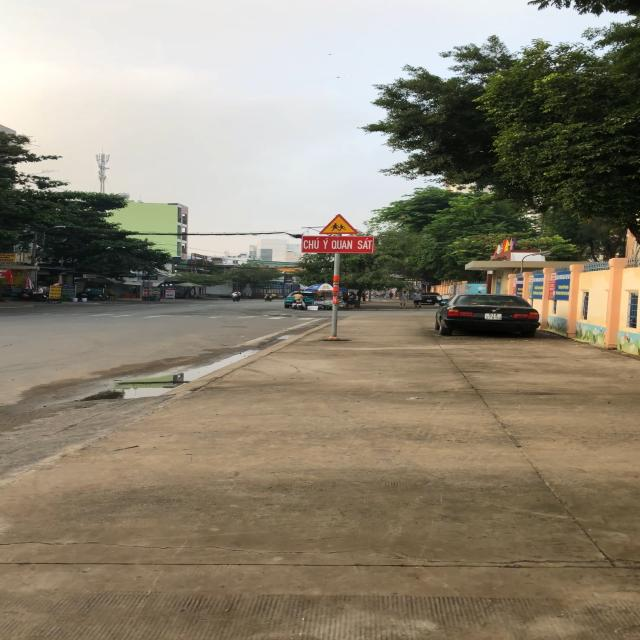Bien bao tre em: (318, 213, 359, 235)
